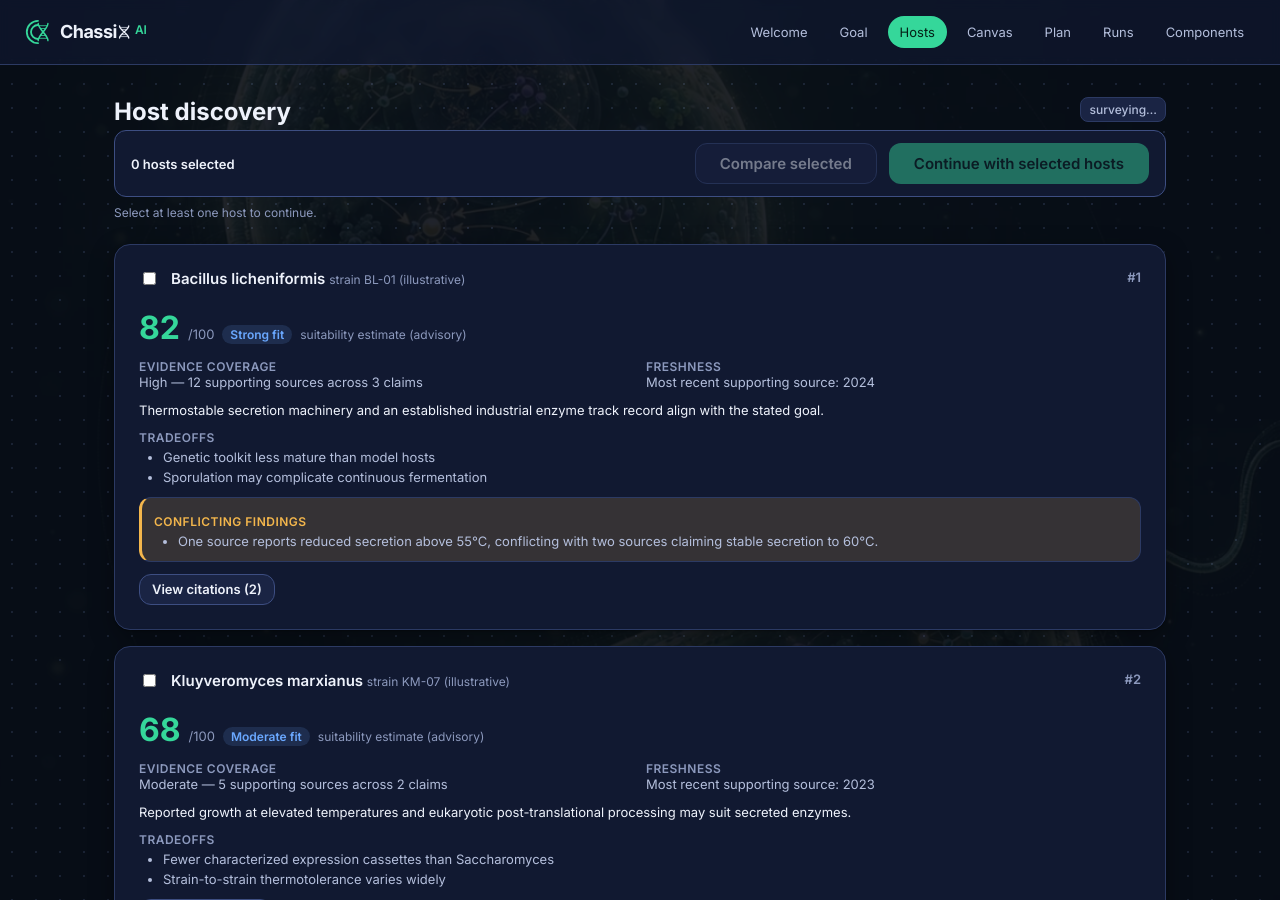
HostDiscoveryPage (Step 2.3, Screen 2 / BF-02) › opens the citation drawer showing the source passage and retrieval date
The image size is (1280, 900).
Click the button "View citations (2)": (207,590) [139,574,275,605]
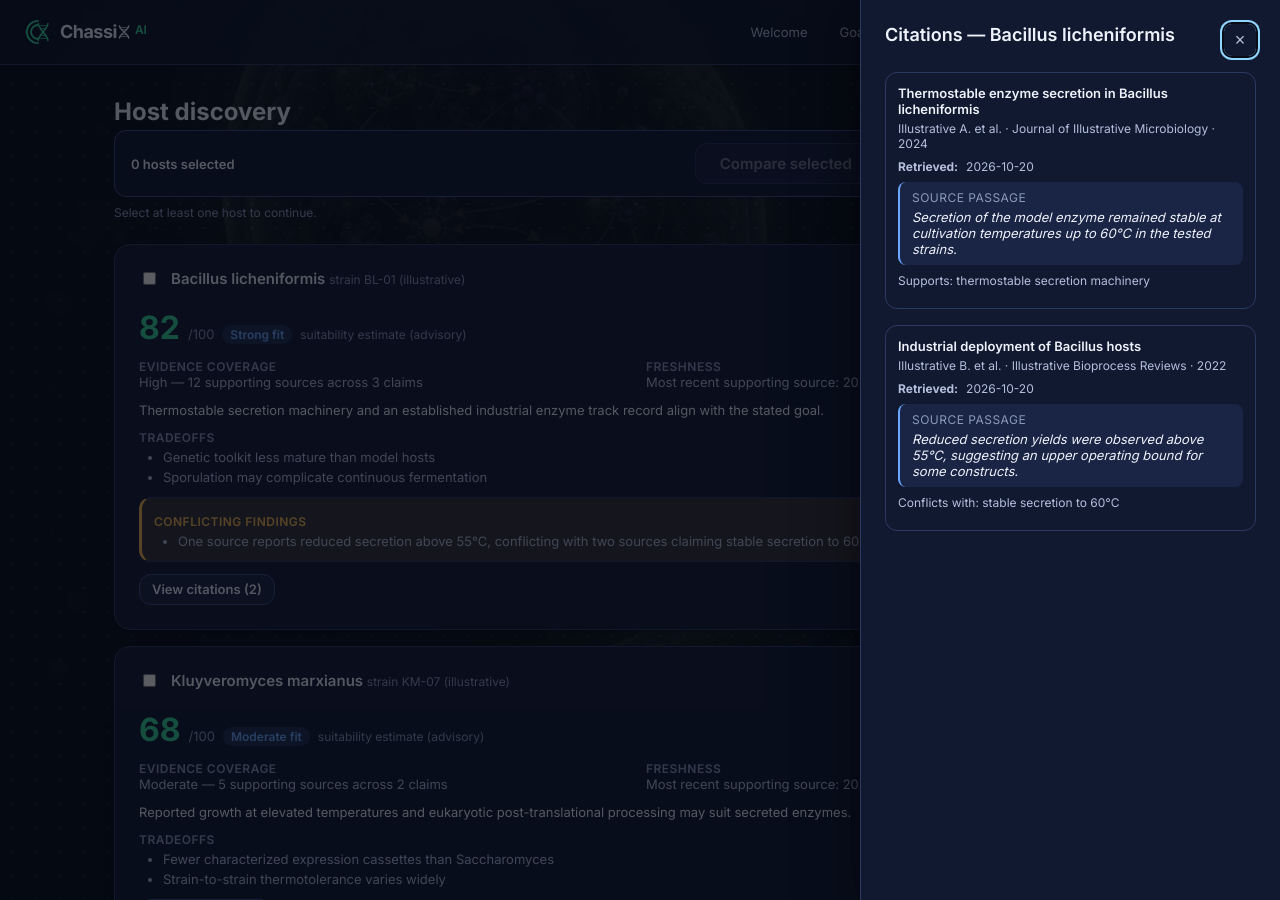
Result: the text "Secretion of the model enzyme remained stable at cultivation temperatures up to 60°C in the tested strains." is shown at [912,209,1221,257]
Result: the heading "Thermostable enzyme secretion in Bacillus licheniformis" is shown at [898,85,1168,117]
Result: the text "Supports: thermostable secretion machinery" is shown at [898,273,1150,288]
